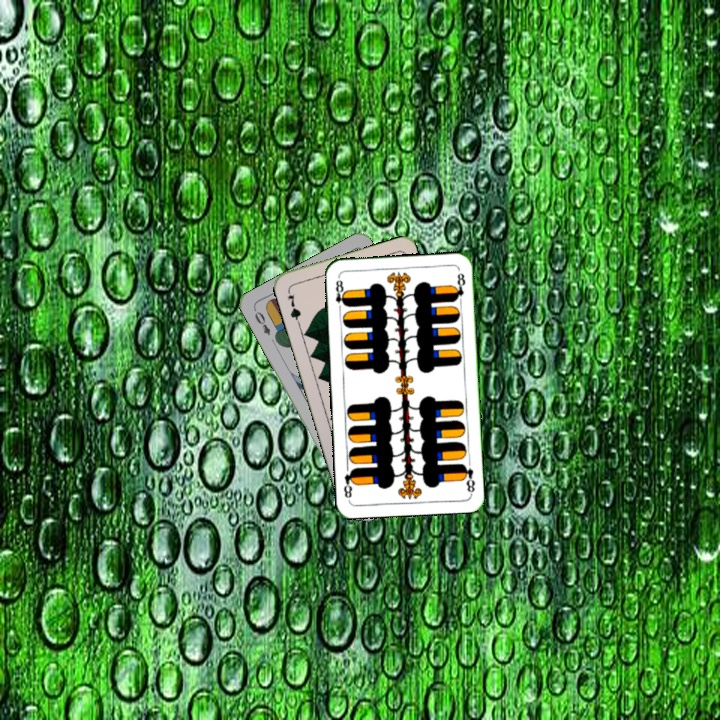E8: (458, 460, 478, 496), (332, 273, 349, 314)
EO: (250, 305, 273, 338)
G7: (283, 286, 304, 325)
